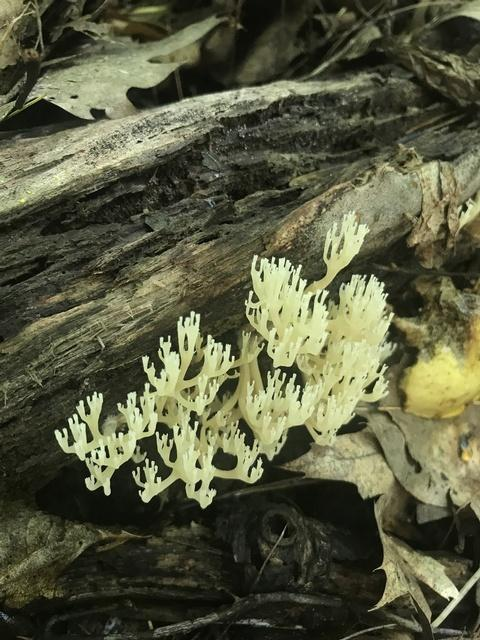edible_mushroom: (53, 209, 397, 509)
